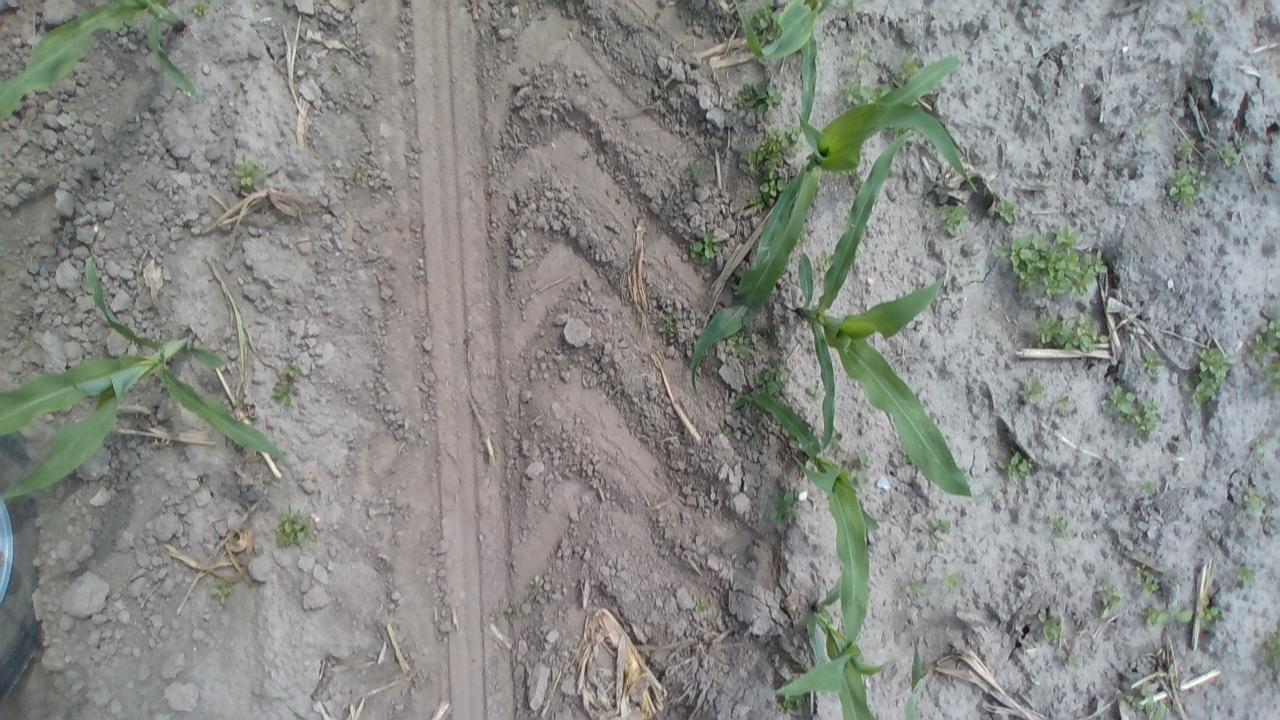Maize: (717, 24, 982, 325), (0, 243, 295, 504), (782, 121, 974, 502), (734, 387, 881, 684), (0, 0, 208, 127), (770, 564, 901, 714), (747, 2, 828, 66)
Weeds: (998, 224, 1107, 304), (744, 122, 800, 206), (1182, 342, 1234, 414), (1100, 380, 1163, 438), (1034, 312, 1106, 352), (1244, 317, 1278, 389), (272, 507, 320, 550), (1166, 163, 1210, 206), (732, 81, 785, 112), (754, 360, 788, 402), (1124, 688, 1170, 718), (273, 362, 302, 408), (687, 228, 724, 264), (998, 449, 1038, 481), (770, 485, 801, 526), (840, 80, 888, 106), (1138, 604, 1194, 626), (1093, 578, 1125, 614), (846, 451, 875, 488), (234, 160, 266, 192), (938, 203, 969, 236), (1037, 608, 1065, 642), (1216, 138, 1244, 171), (751, 2, 779, 35), (993, 193, 1021, 226), (1256, 632, 1276, 676), (726, 328, 754, 358), (1020, 374, 1048, 404), (1134, 566, 1160, 598), (1138, 350, 1164, 382), (208, 578, 237, 605), (1046, 512, 1072, 542), (924, 512, 955, 537), (847, 47, 878, 72), (1240, 483, 1266, 512), (1198, 596, 1222, 626), (1234, 562, 1258, 590), (693, 595, 716, 623), (776, 692, 806, 713), (895, 55, 919, 81), (1174, 132, 1198, 158), (1184, 5, 1211, 28), (656, 312, 679, 338), (941, 572, 967, 594), (814, 250, 836, 274), (188, 0, 214, 20), (688, 160, 706, 188), (1134, 120, 1156, 142), (1062, 650, 1084, 671), (1250, 437, 1268, 462), (479, 439, 496, 464), (346, 166, 366, 187), (1054, 393, 1075, 412), (1140, 480, 1158, 502), (527, 573, 545, 594), (751, 332, 770, 351), (804, 382, 824, 400), (905, 577, 927, 593), (331, 100, 348, 116)
